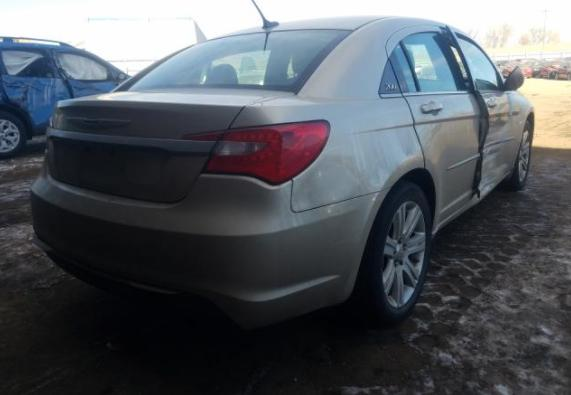Back-bumper: (31, 157, 390, 330)
Back-door: (387, 23, 483, 230)
Back-wheel: (352, 180, 434, 325)
Back-window: (398, 32, 462, 90), (378, 62, 400, 97)
Back-windshield: (111, 28, 353, 93)
Fender: (506, 91, 533, 155)
Front-door: (447, 28, 516, 189)
Front-wheel: (510, 120, 532, 189)
Front-window: (457, 36, 498, 93)
Mirror: (502, 65, 524, 92)
Quarter-panel: (231, 95, 423, 214)
Rocker-panel: (432, 169, 509, 238)
Roof: (219, 15, 392, 36)
Tail-light: (182, 118, 330, 186)
Trunk: (44, 89, 293, 206)
